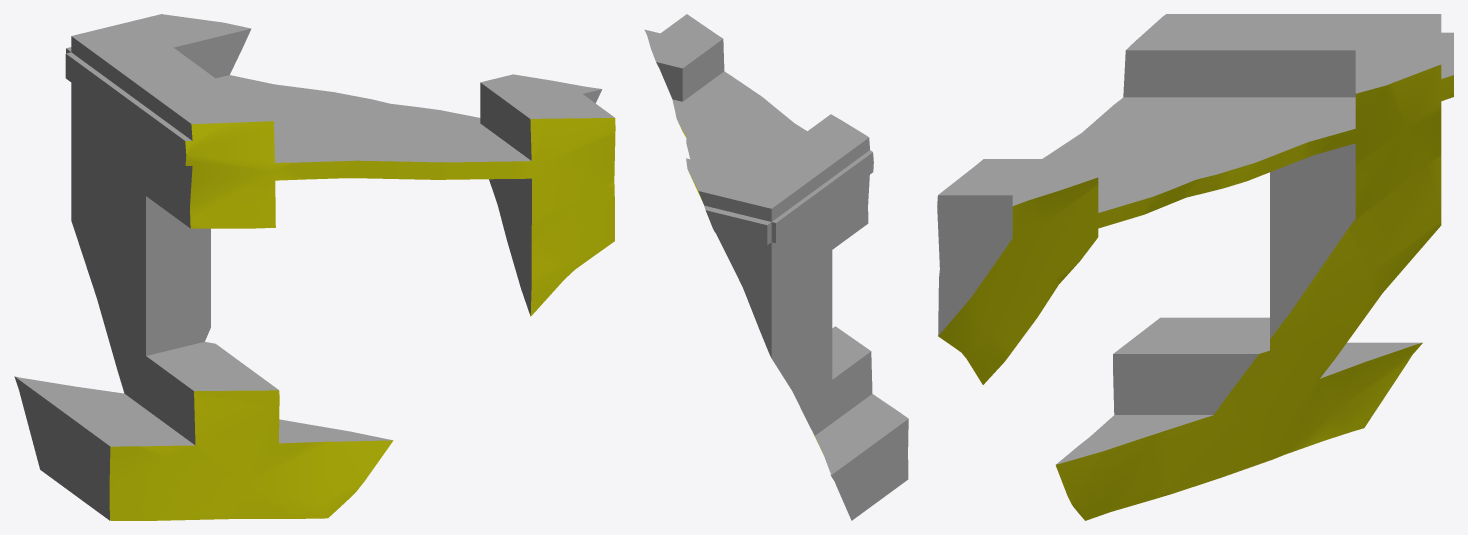
Rendered from B_Shatter_01.fbx.
3 views of the same model, side by side, from view 1: azimuth 30°, elevation 25°; view 2: azimuth 150°, elevation 25°; view 3: azimuth 270°, elevation 25° (orthographic). The views are drawn at different scales.
Visible parts, largest first — view 1: shard3; view 2: shard3; view 3: shard3.
Part boxes in pixels (<box>): shard3: <box>14,14,615,520</box>; shard3: <box>644,14,908,520</box>; shard3: <box>937,14,1453,520</box>.
Bounding box in the file's own units: 5.73 × 5.27 × 5.48.
